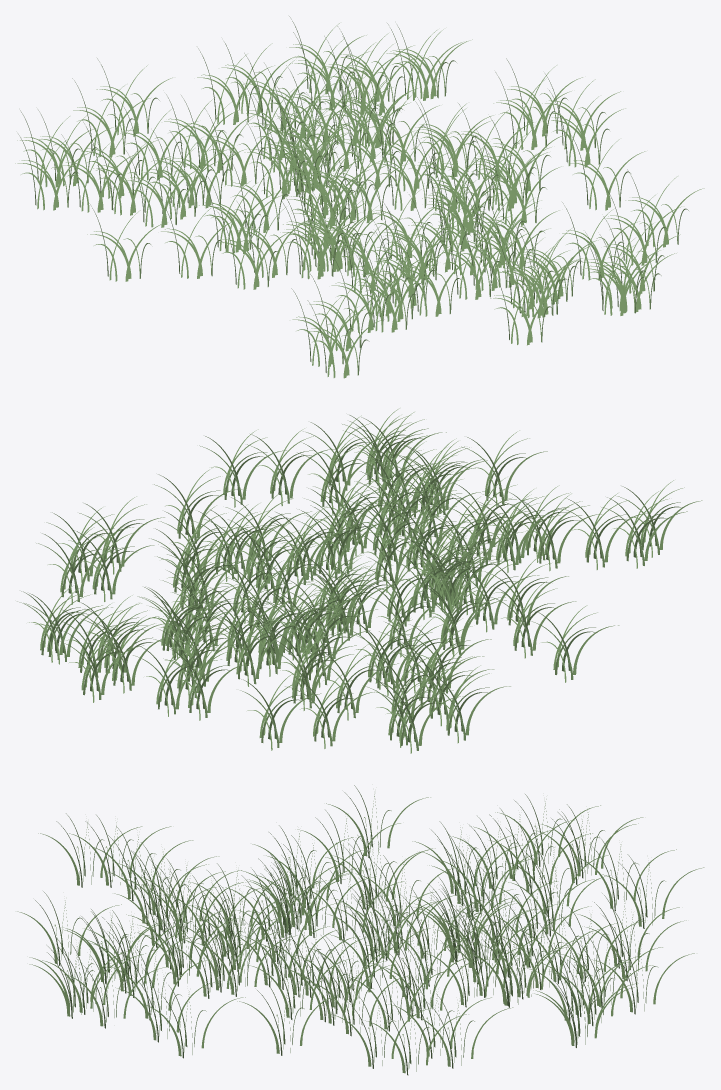
The model's file is Evironment_Gras_Buendel2.fbx.
The picture shows the model from 3 angles, top to bottom: view 1: azimuth 30°, elevation 25°; view 2: azimuth 150°, elevation 25°; view 3: azimuth 270°, elevation 25°; orthographic projection. The views are drawn at different scales.
Visible parts, largest first — view 1: Gras; view 2: Gras; view 3: Gras.
Boxes of the visible parts, x1=… form: Gras: x1=15, y1=16, x2=704, y2=378; Gras: x1=17, y1=408, x2=702, y2=753; Gras: x1=17, y1=785, x2=704, y2=1075.
Size of the model in its own units: 327 by 31.83 by 375.
